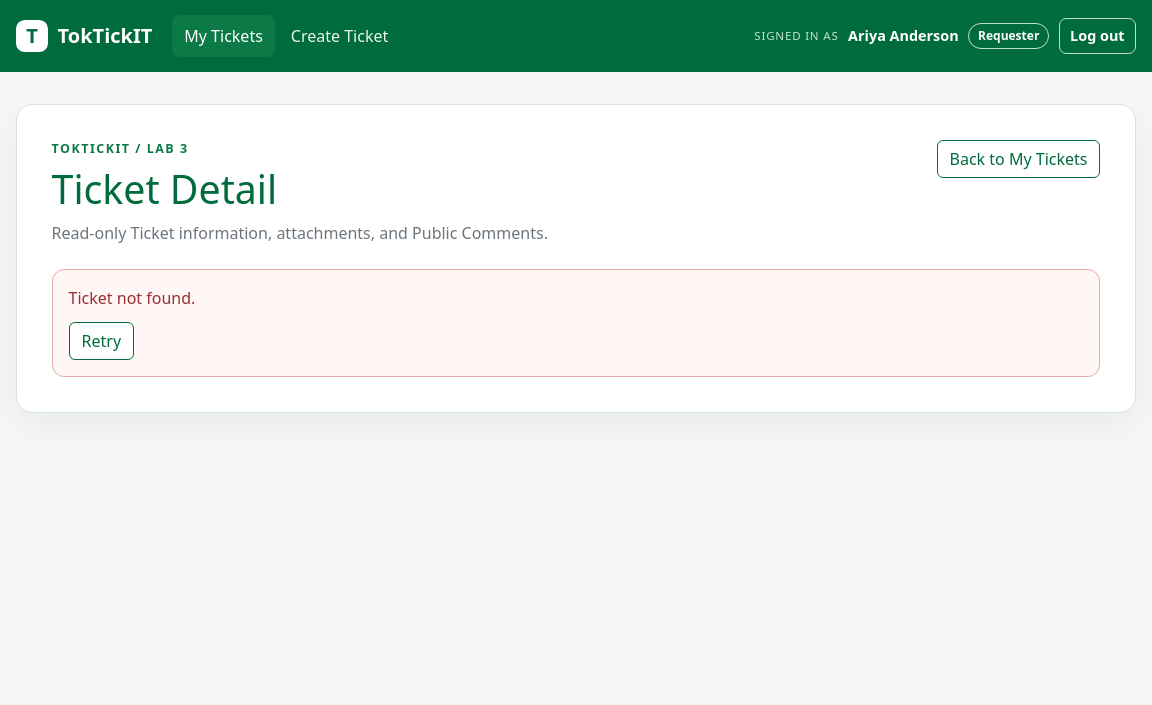
it: Lab 2 Ticket Detail screen › shows a safe not-found/API failure state with retry
Expected: the heading "Ticket Detail" is shown, [52,162,277,216]
Expected: the message shows "Ticket not found", [68,287,195,309]
Click the button "Retry".
click(101, 341)  # box [68,322,134,360]
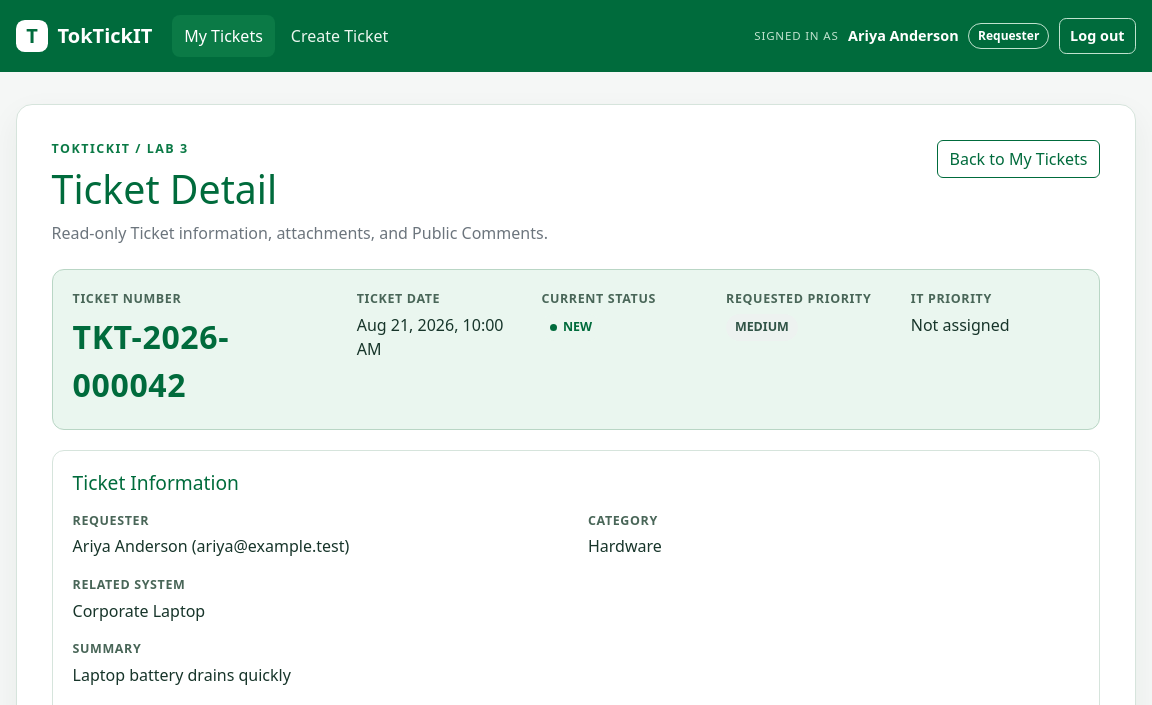
Result: the text "TKT-2026-000042" is shown at [72,315,229,406]
